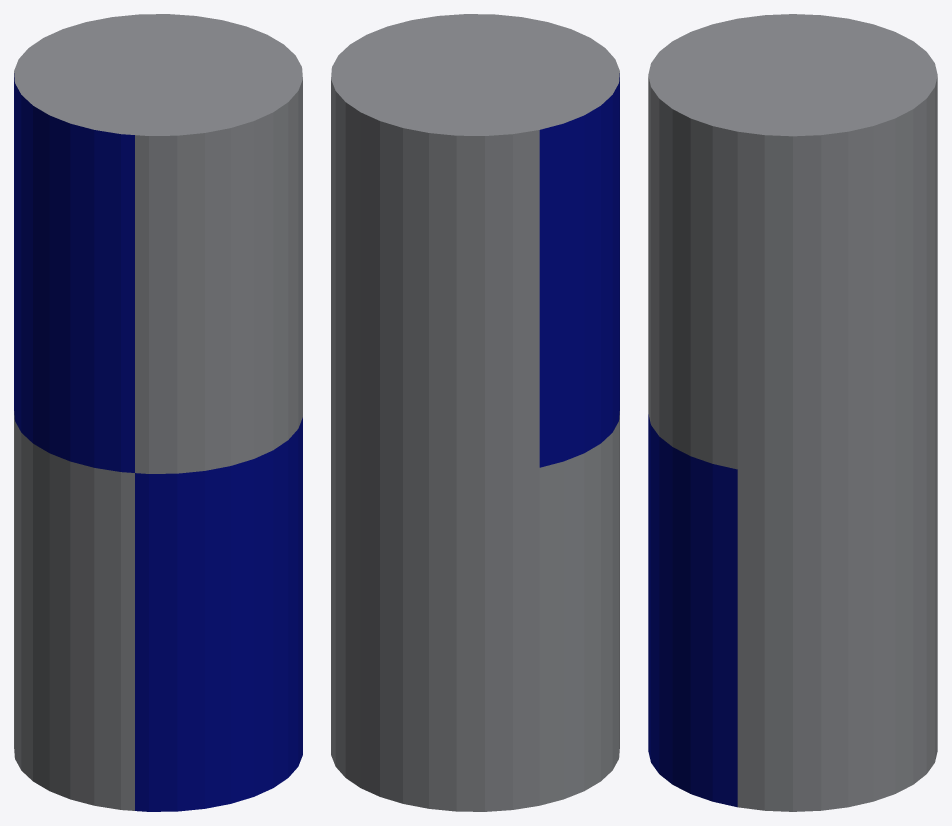
The model's file is can.fbx.
3 renders of one model, left to right at view 1: azimuth 30°, elevation 25°; view 2: azimuth 150°, elevation 25°; view 3: azimuth 270°, elevation 25°, orthographic.
Parts seen in each view (by area): view 1: Cylinder; view 2: Cylinder; view 3: Cylinder.
Boxes of the visible parts, left/top/right/bottom form: Cylinder: left=14, top=14, right=302, bottom=811; Cylinder: left=331, top=14, right=619, bottom=811; Cylinder: left=648, top=14, right=937, bottom=811.
Bounding box in the file's own units: 200 × 515 × 200.
